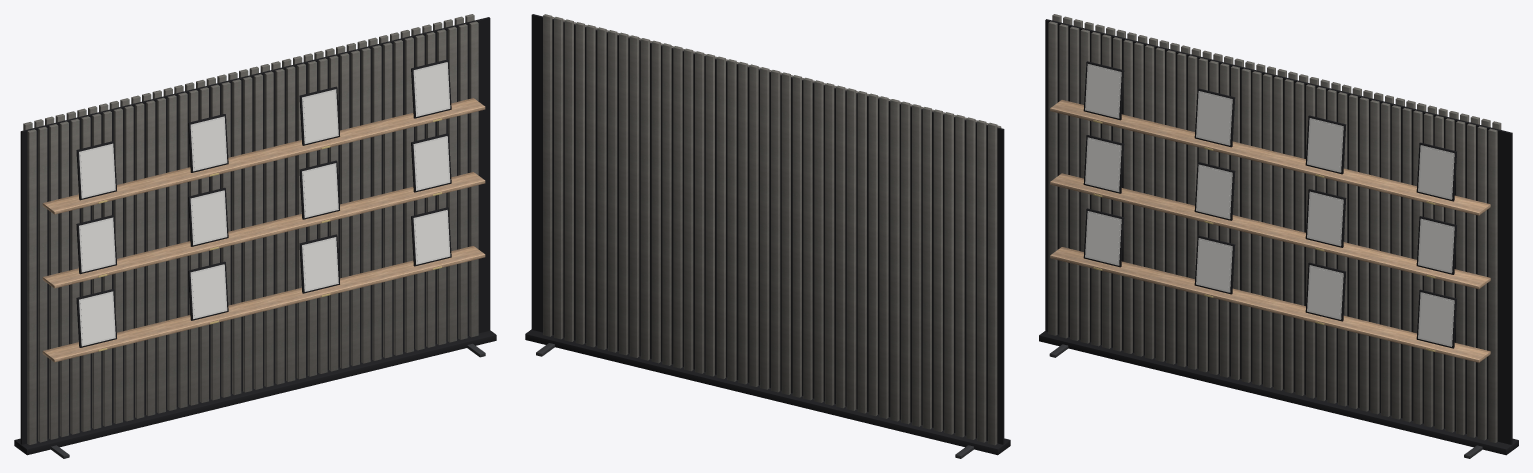
File: parete-attestati.glb
3 renders of one model, left to right at view 1: azimuth 30°, elevation 25°; view 2: azimuth 150°, elevation 25°; view 3: azimuth 330°, elevation 25°, orthographic.
Parts seen in each view (by area): view 1: attestati_parete, foglio_01, foglio_07, foglio_06, foglio_09, foglio_02, foglio_05, foglio_11, foglio_03, foglio_04, foglio_10, foglio_08 (+13 smaller); view 2: attestati_parete; view 3: attestati_parete, foglio_10, foglio_03, foglio_05, foglio_06, foglio_00, foglio_01, foglio_02, foglio_04, foglio_07, foglio_11, foglio_08 (+13 smaller).
Part boxes in pixels (box(x1,y1,x2,y2)): attestati_parete: box(14, 14, 496, 458); foglio_01: box(192, 266, 225, 317); foglio_07: box(415, 138, 448, 188); foglio_06: box(303, 165, 337, 216); foglio_09: box(192, 118, 225, 169); foglio_02: box(303, 239, 337, 289); foglio_05: box(192, 192, 225, 243); foglio_11: box(415, 64, 448, 114); foglio_03: box(415, 212, 448, 262); foglio_04: box(80, 219, 114, 270); foglio_10: box(303, 91, 337, 142); foglio_08: box(80, 145, 114, 196); attestati_parete: box(525, 14, 1010, 458); attestati_parete: box(1039, 14, 1518, 458); foglio_10: box(1308, 120, 1341, 170); foglio_03: box(1419, 294, 1452, 344); foglio_05: box(1197, 166, 1230, 217); foglio_06: box(1308, 193, 1341, 244); foglio_00: box(1086, 213, 1119, 263); foglio_01: box(1197, 240, 1230, 290); foglio_02: box(1308, 267, 1341, 317); foglio_04: box(1086, 139, 1119, 190); foglio_07: box(1419, 220, 1452, 271); foglio_11: box(1419, 147, 1452, 197); foglio_08: box(1086, 66, 1119, 116).
Bounding box in the file's own units: 6.32 × 4.16 × 0.9.
8 materials, 2 textured.
